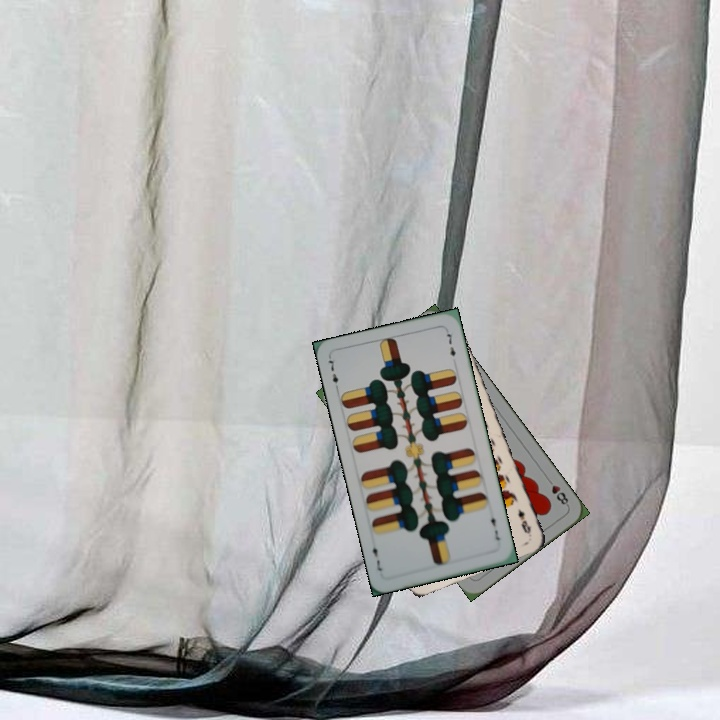E7: (325, 354, 341, 394), (487, 509, 502, 543)
E9: (514, 504, 534, 536)
H8: (543, 474, 571, 509)
